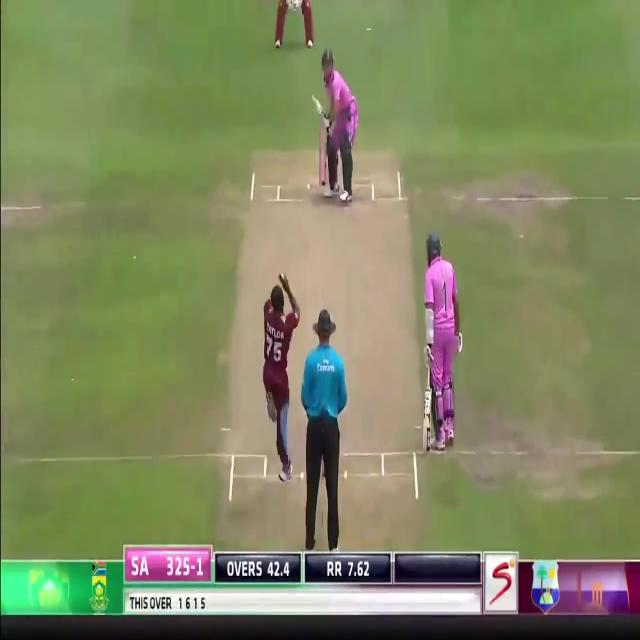Ball: (422, 233, 462, 451), (316, 49, 359, 202)
Fielder: (261, 274, 300, 476)
Umpire: (300, 311, 347, 546)
